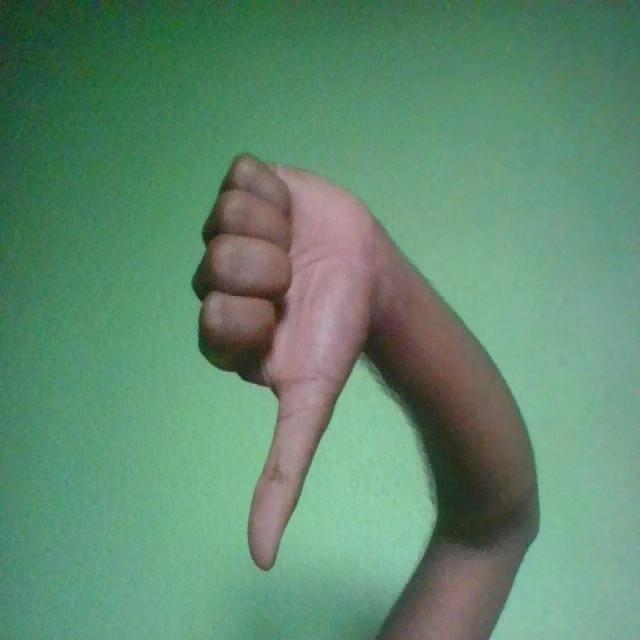Dislike: (190, 152, 386, 572)
